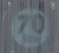Speed limit: (6, 5, 54, 51)
